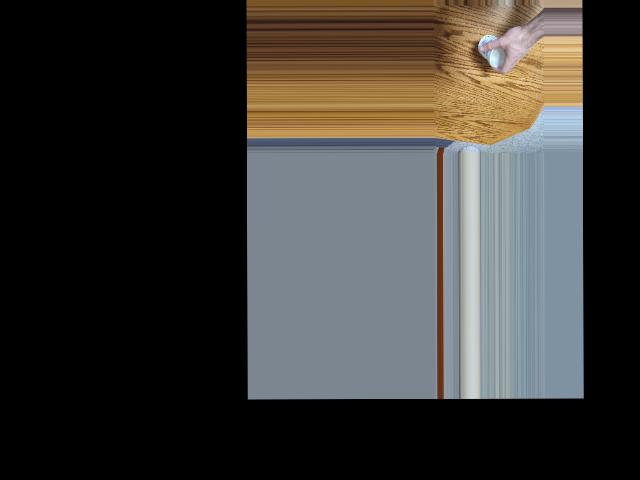cotage: (476, 37, 507, 74)
